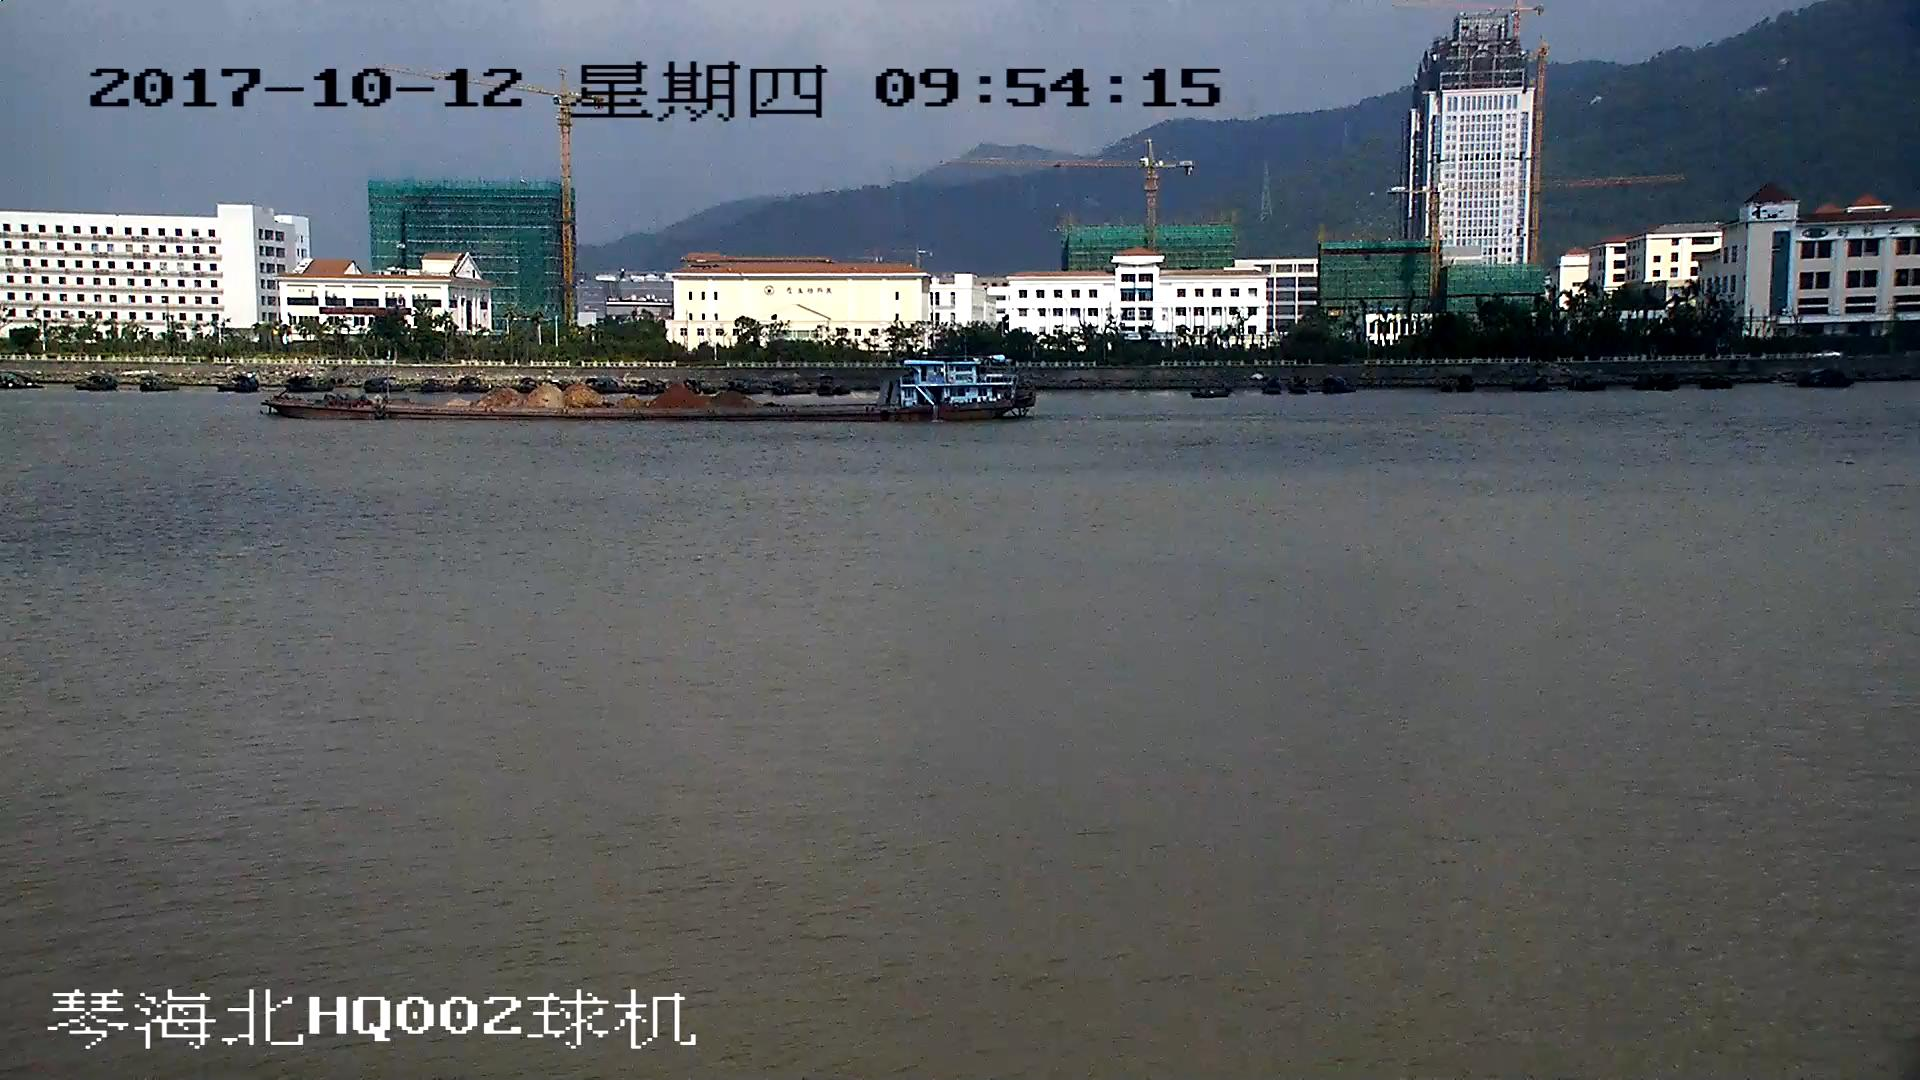ore carrier: (276, 354, 1028, 423)
